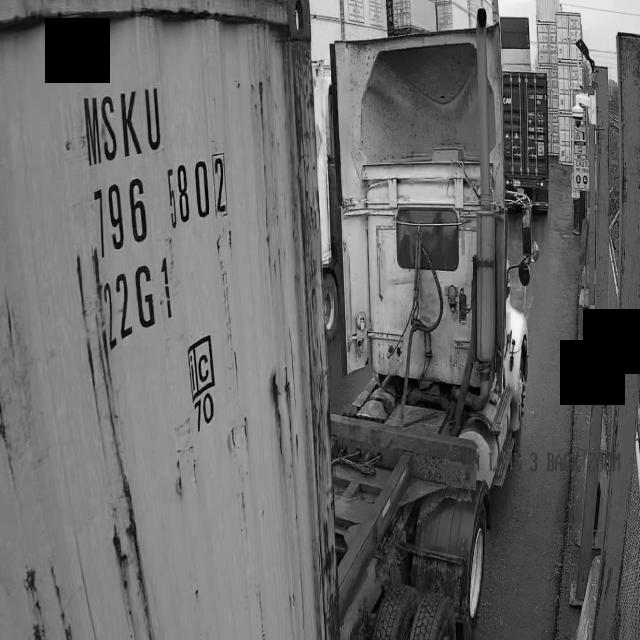container_side_no: (83, 68, 243, 350)
truck_with_container: (0, 0, 538, 640)
